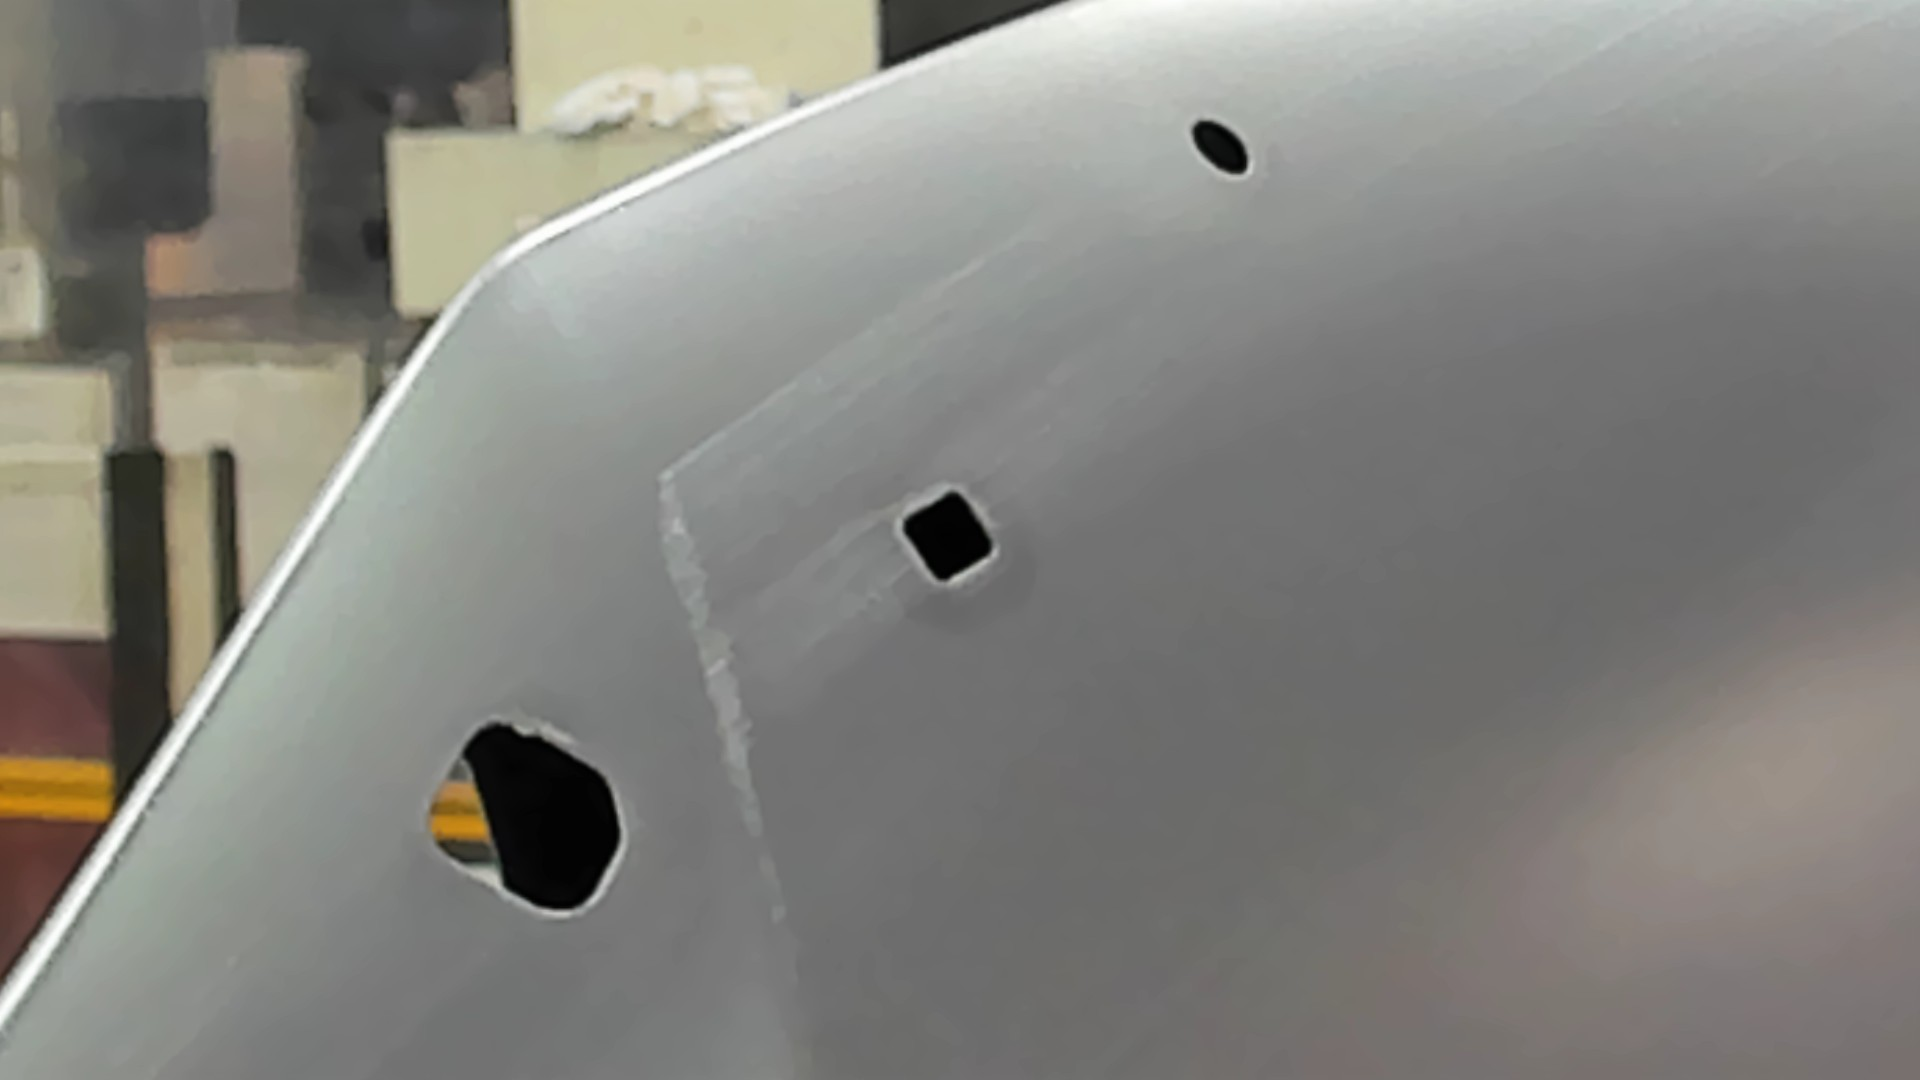capo: (1002, 183, 1920, 1080)
chico: (1185, 116, 1255, 181)
grande: (419, 713, 633, 926)
mediano: (891, 483, 1000, 595)
